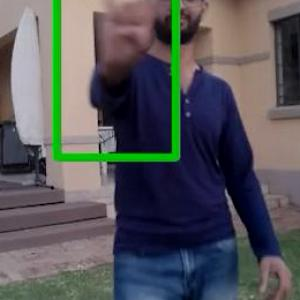takeoff-hand: (83, 0, 173, 95)
